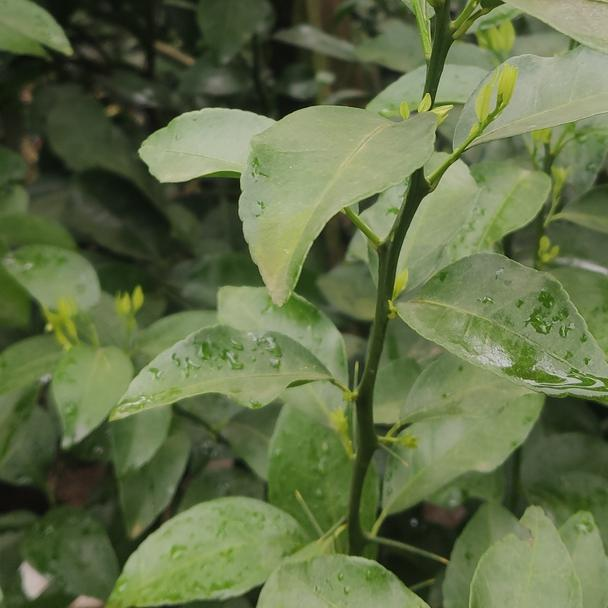shoot: (455, 66, 523, 160)
